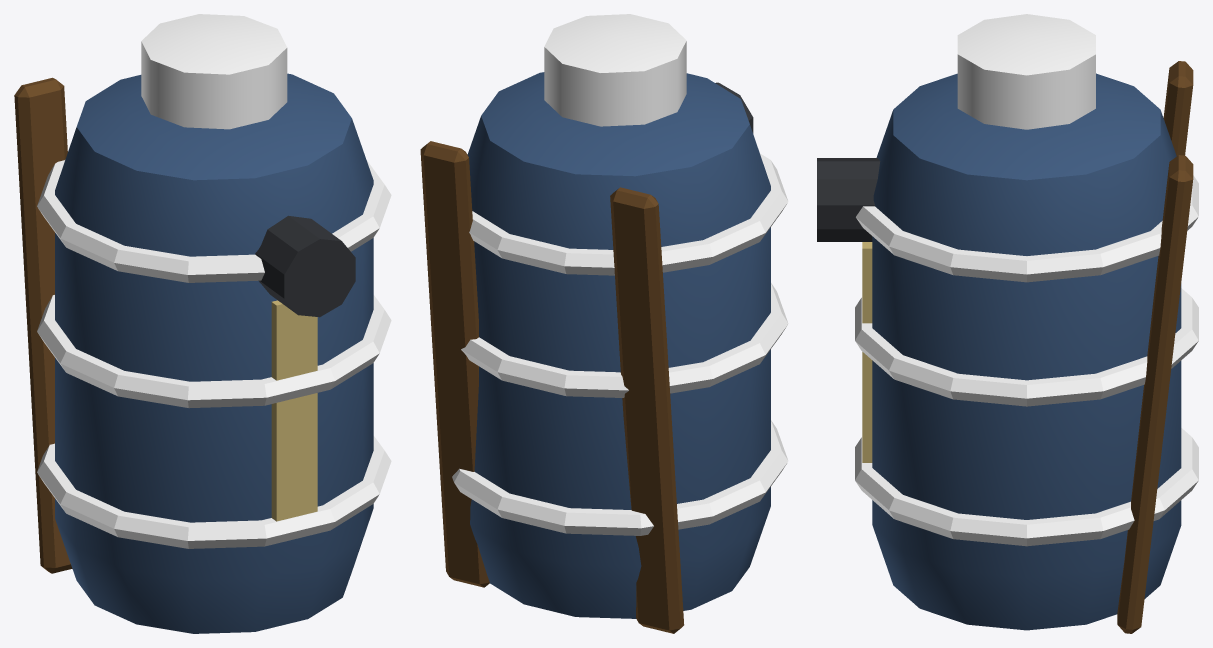
Rendered from vacuum_pack.glb.
The picture shows the model from 3 angles, left to right: view 1: azimuth 30°, elevation 25°; view 2: azimuth 150°, elevation 25°; view 3: azimuth 270°, elevation 25°; orthographic projection. The views are drawn at different scales.
Visible parts, largest first — view 1: VacuumPack; view 2: VacuumPack; view 3: VacuumPack.
Boxes of the visible parts, <box> form: VacuumPack: <box>14,14,391,633</box>; VacuumPack: <box>420,14,788,633</box>; VacuumPack: <box>817,14,1198,633</box>.
Size of the model in its own units: 0.412 by 0.71 by 0.4458.
